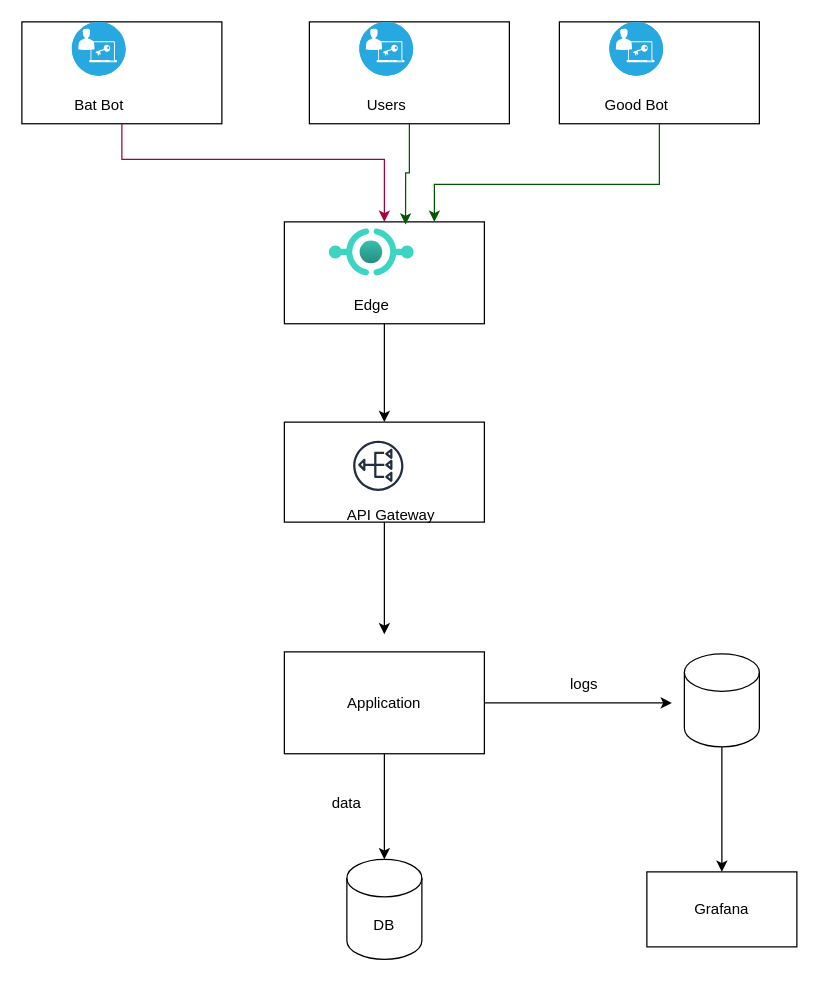
The diagram is 819 pixels wide and 981 high, and some of its shapes have lost their labels. Here are the shapes that lost their labels. From the top down, the box of each, then its label:
(346, 433, 410, 497): NAT gateway
(683, 652, 759, 747): promethus
